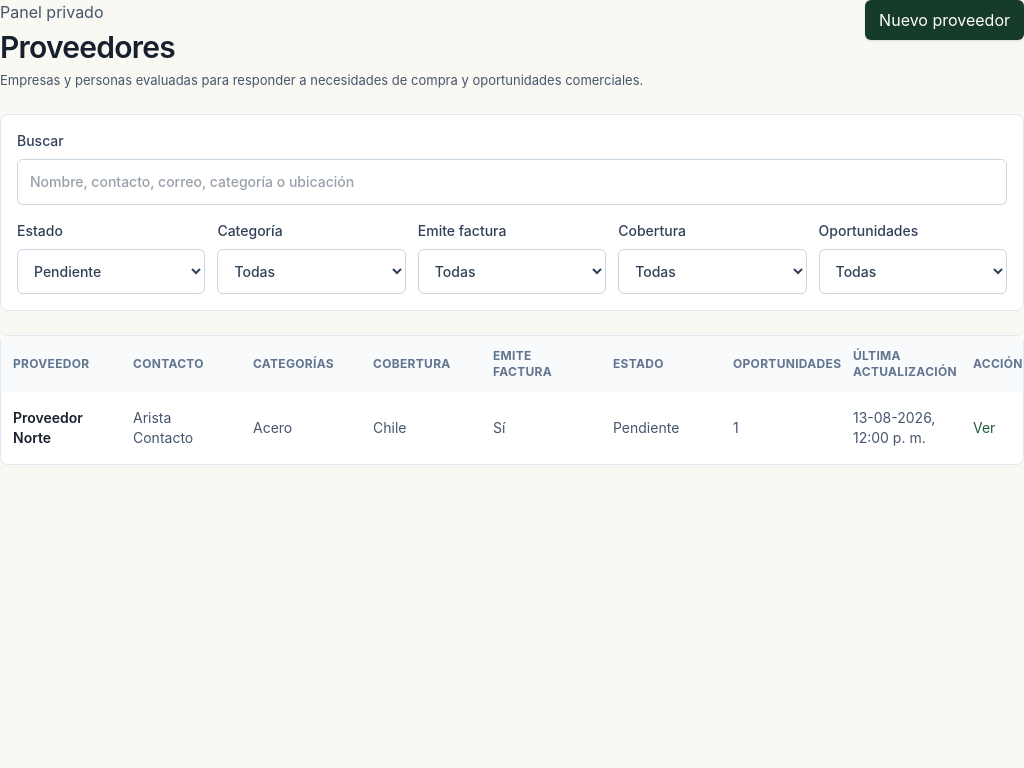
Test case: AdminSuppliers › opens supplier detail in a modal without changing the list URL
Click the button "Ver".
click(984, 428)  # box [973,418,995,438]
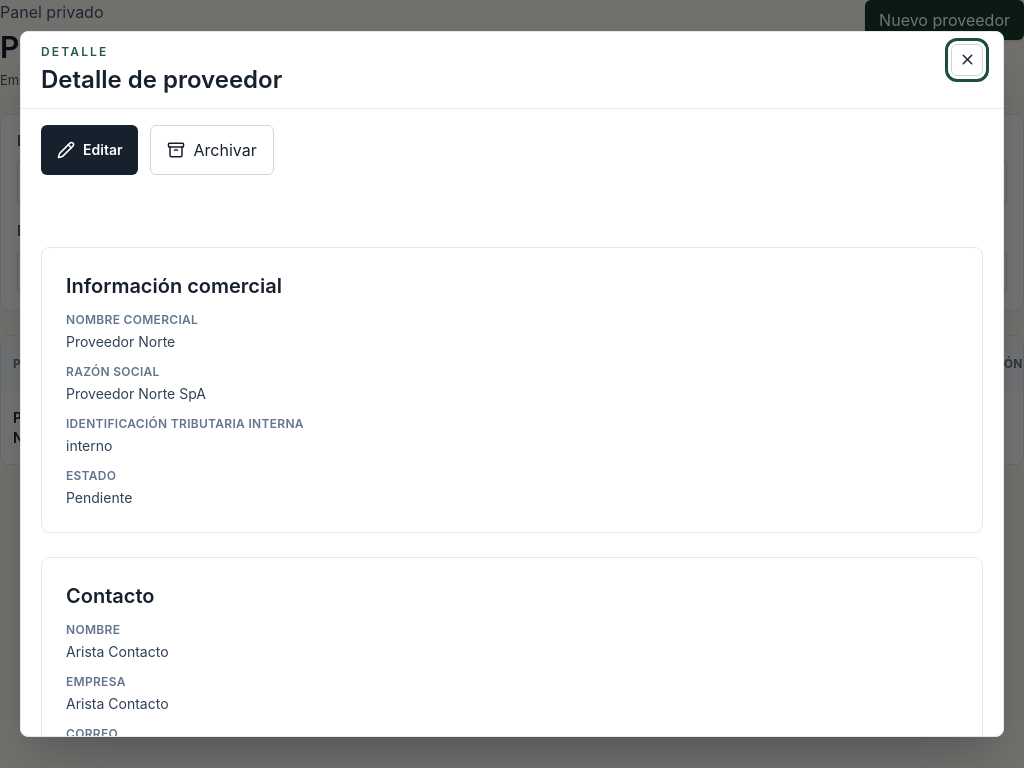
Now the dialog shows "Proveedor Norte", box [66,333,175,350]
Press Escape
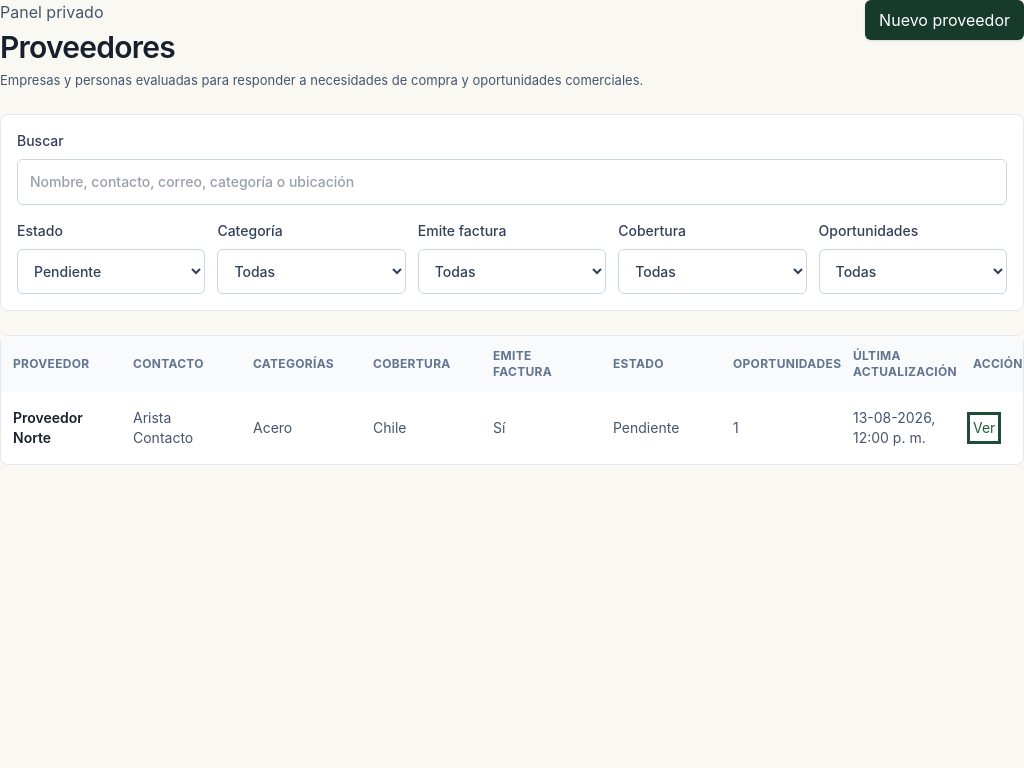
Now the dialog is gone
